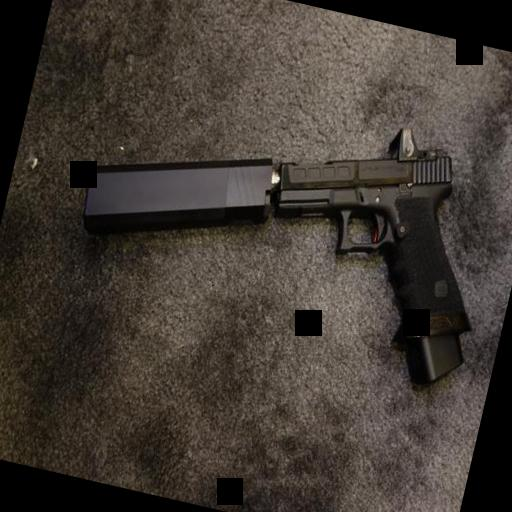Handgun: (237, 99, 512, 382)
